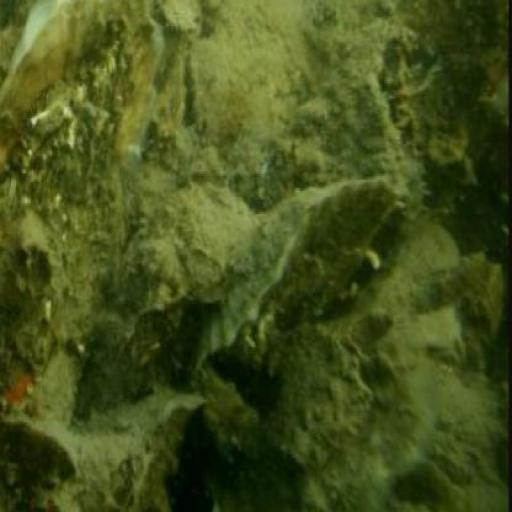Oyster-Closed: (212, 184, 406, 371), (3, 1, 107, 122)
